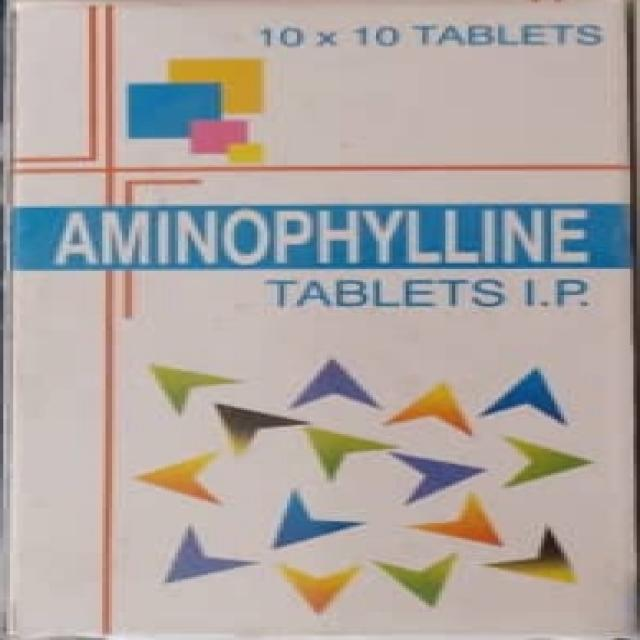drug-name: (42, 208, 603, 272)
